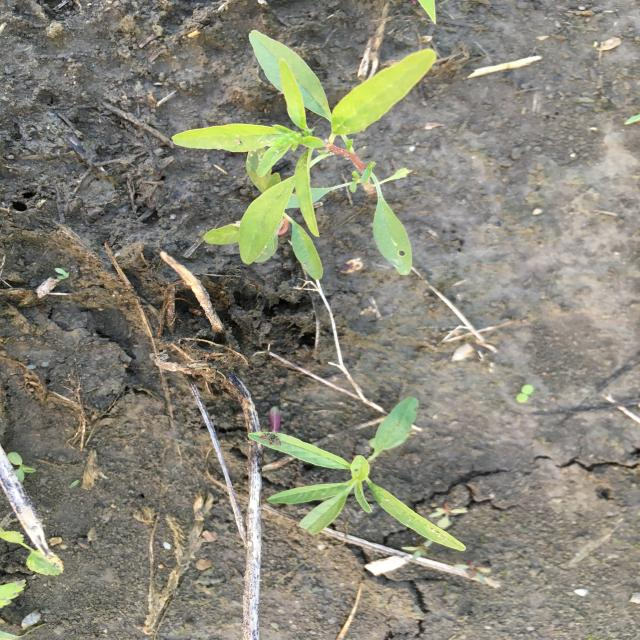PricklySida: (1, 528, 67, 618)
Waterhemp: (168, 27, 439, 283), (246, 396, 470, 554)
